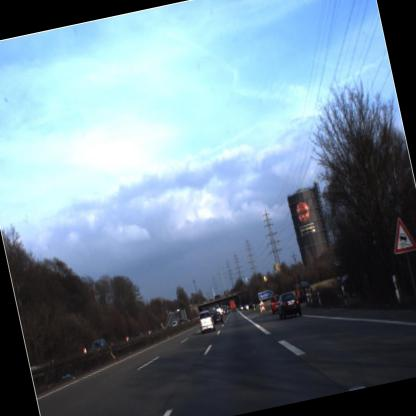danger: (383, 209, 415, 264)
